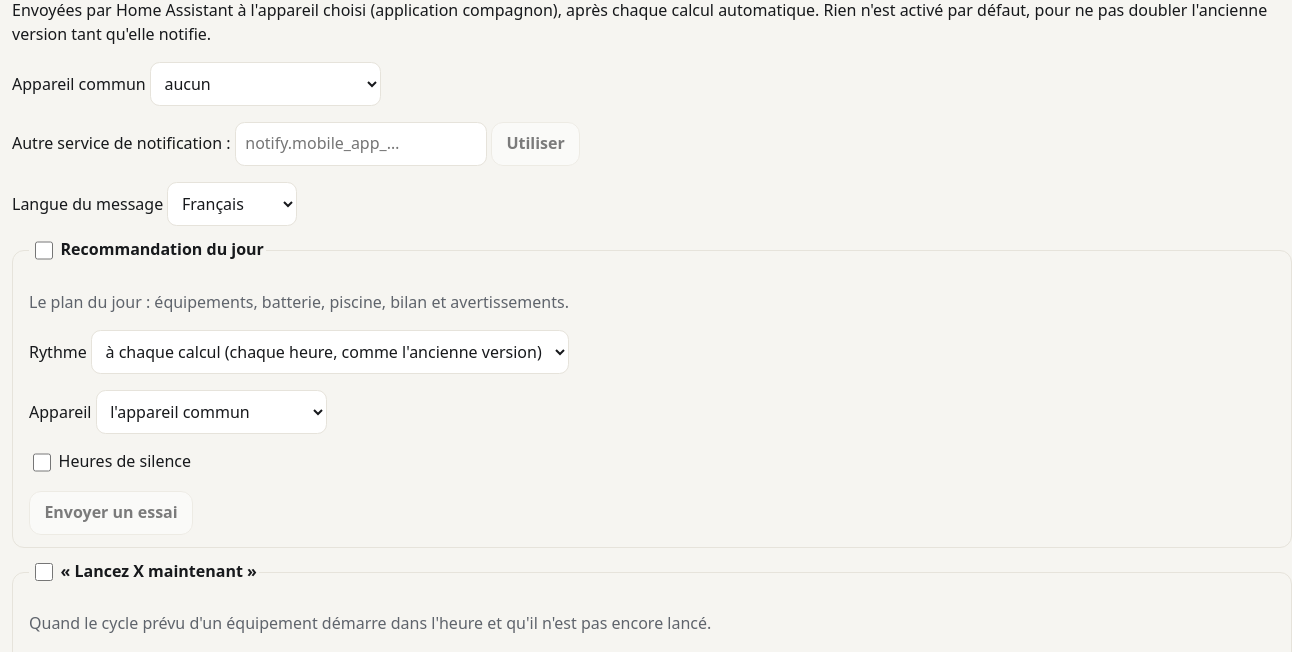
SettingsScreen › montre le message envoyé en essai, pour chaque notification
The width and height of the screenshot is (1292, 652).
Step 1. Select "notify.mobile_app_phone" in the dropdown labelled "Appareil commun" → (265, 84), box left=150, top=62, right=381, bottom=106
(page scrolled)
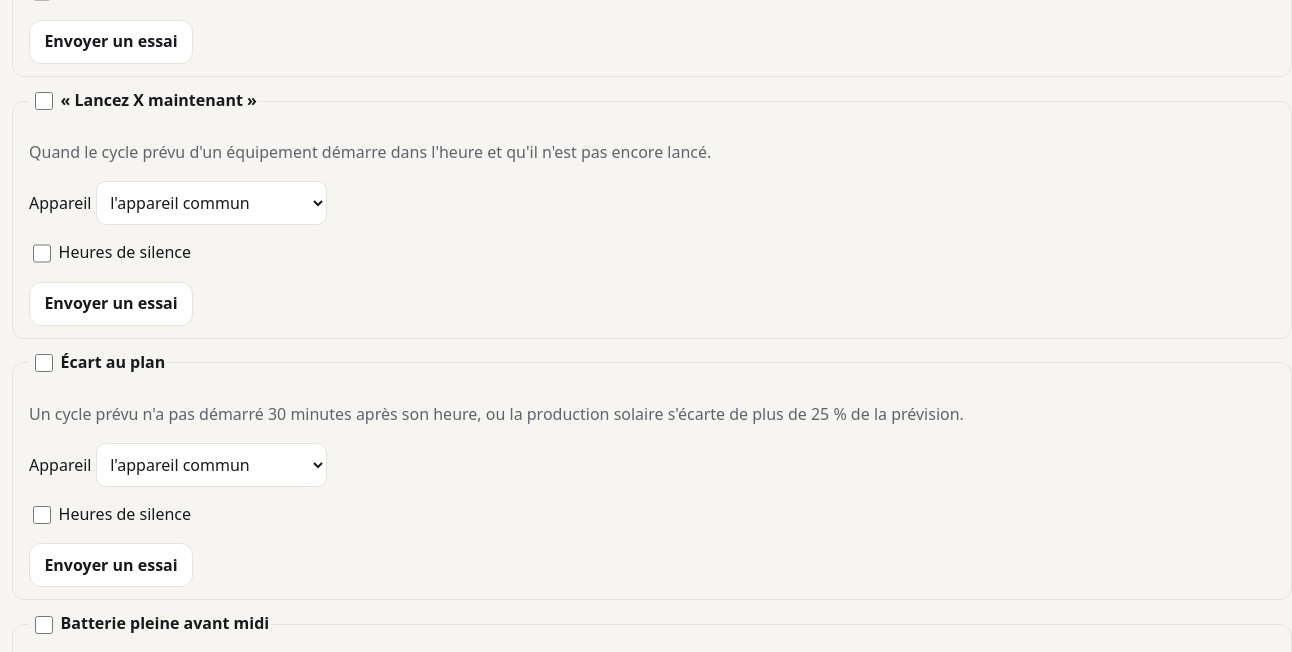
Step 2. Click the button with aria-label "Envoyer un essai : « Lancez X maintenant »" → (111, 304), box left=29, top=282, right=193, bottom=326
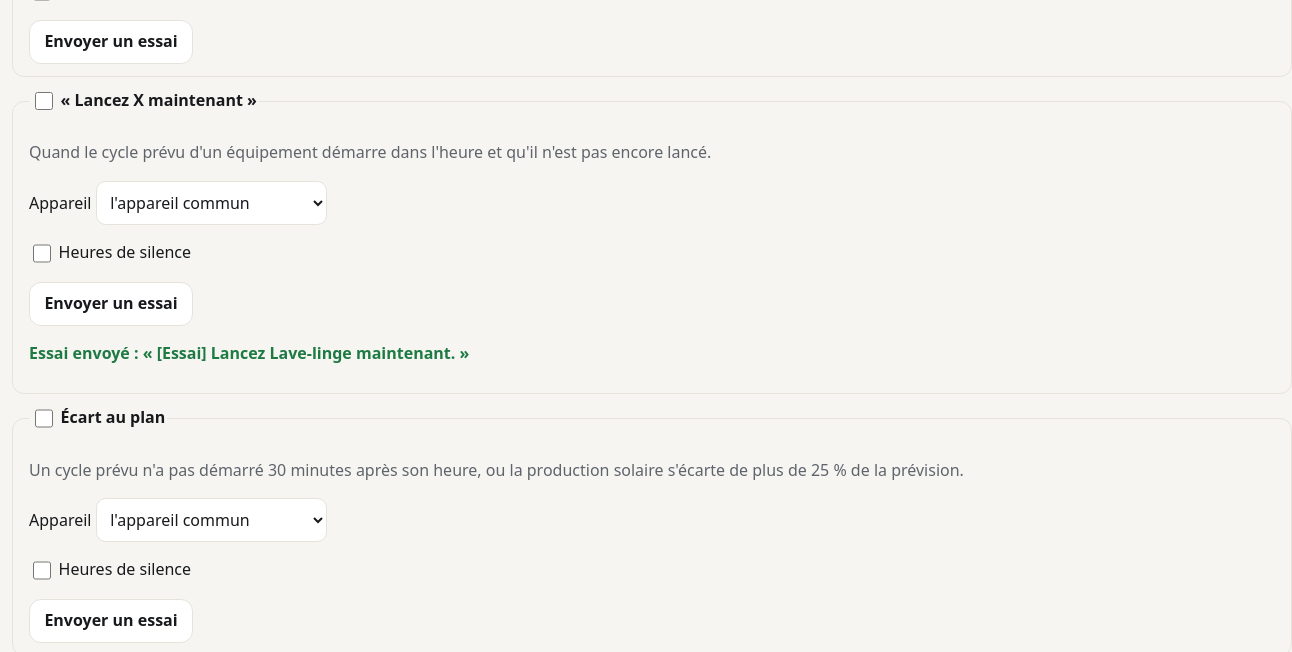
Result: the text "Essai envoyé : « [Essai] Lancez Lave-linge maintenant. »" is shown at left=29, top=342, right=469, bottom=364
